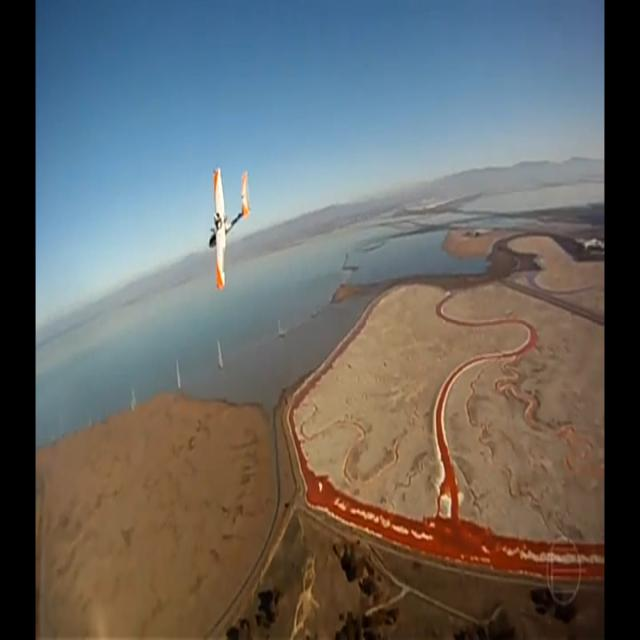iha: (208, 164, 252, 293)
